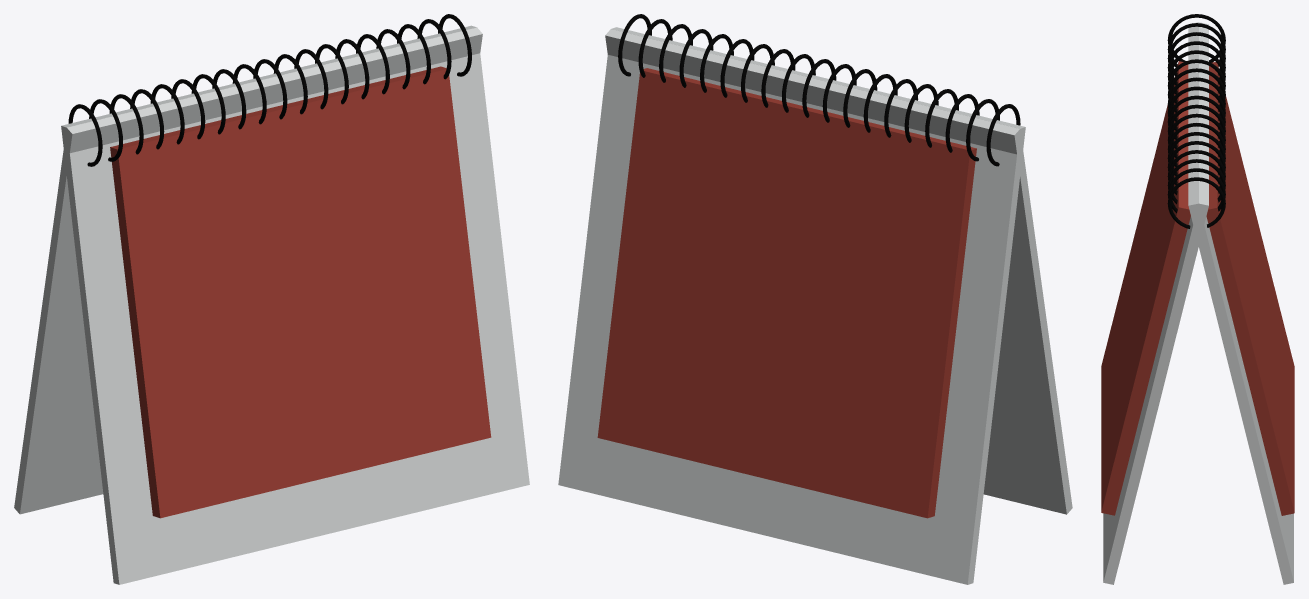
Rendered from Calendario.fbx.
3 renders of one model, left to right at view 1: azimuth 30°, elevation 25°; view 2: azimuth 150°, elevation 25°; view 3: azimuth 270°, elevation 25°, orthographic. The views are drawn at different scales.
Parts seen in each view (by area): view 1: CalendarioNum, CalendarioBase, CalendarioAros; view 2: CalendarioNum, CalendarioBase, CalendarioAros; view 3: CalendarioNum, CalendarioBase, CalendarioAros.
Boxes of the visible parts, bbox=[...] form: CalendarioNum: bbox=[110, 66, 491, 518]; CalendarioBase: bbox=[14, 25, 529, 584]; CalendarioAros: bbox=[68, 14, 471, 166]; CalendarioNum: bbox=[597, 68, 976, 518]; CalendarioBase: bbox=[558, 27, 1072, 584]; CalendarioAros: bbox=[618, 14, 1020, 166]; CalendarioNum: bbox=[1101, 61, 1294, 515]; CalendarioBase: bbox=[1103, 22, 1293, 584]; CalendarioAros: bbox=[1167, 14, 1225, 228].
Size of the model in its own units: 30 by 30.65 by 13.53.
